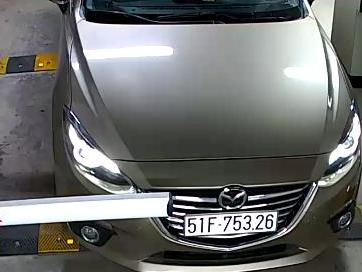number: (186, 210, 277, 237)
